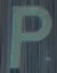Parking: (6, 1, 51, 65)
